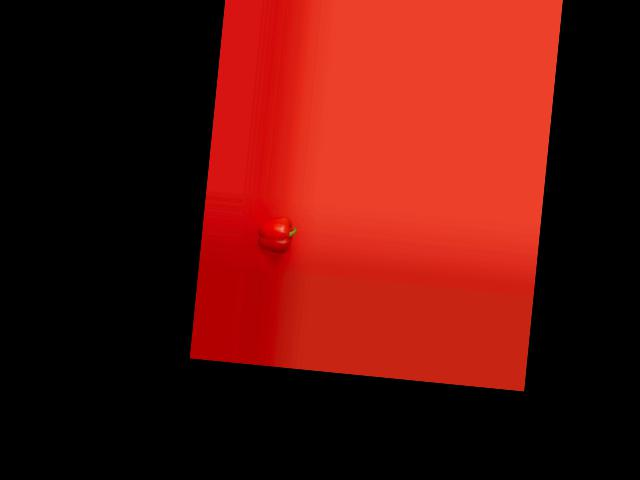bell_pepper: (253, 215, 298, 256)
